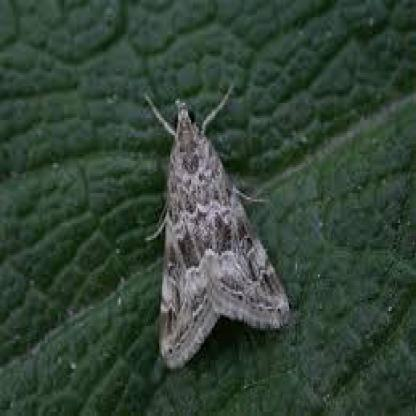Hellula undalis: (138, 83, 292, 374)
